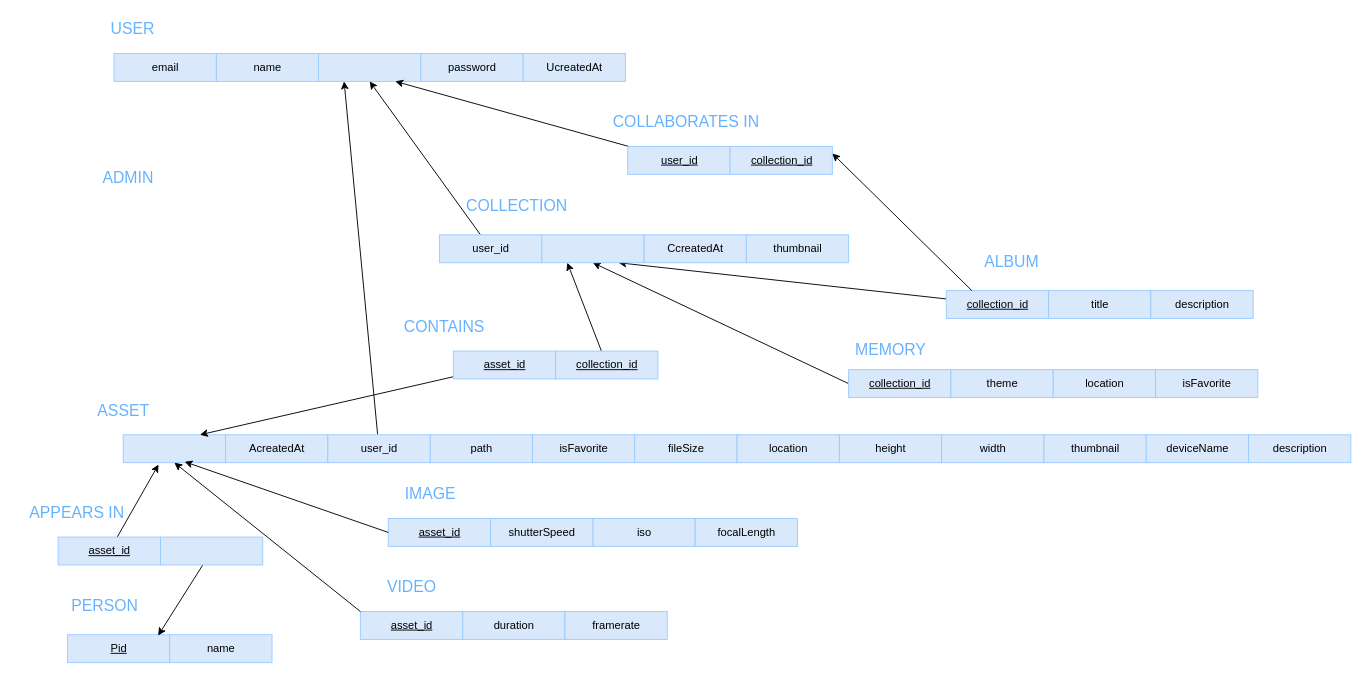
Image size: 1367x679. Some labels were removed from this diagram. Here are the shapes that lost their labels. From the top down, the centre of each, then its label:
At [369,67]: "Uid".
At [592,248]: "Cid".
At [174,448]: "Aid".
At [211,550]: "person_id".
